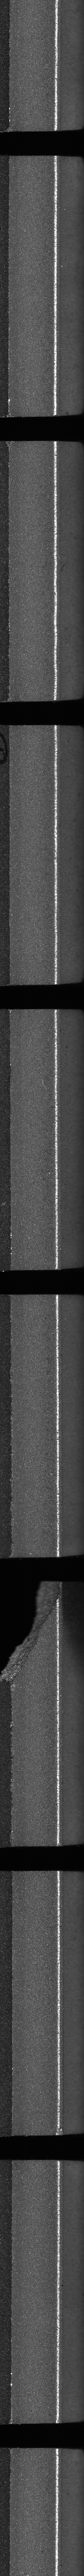Chip: (1, 1579, 62, 1686)
